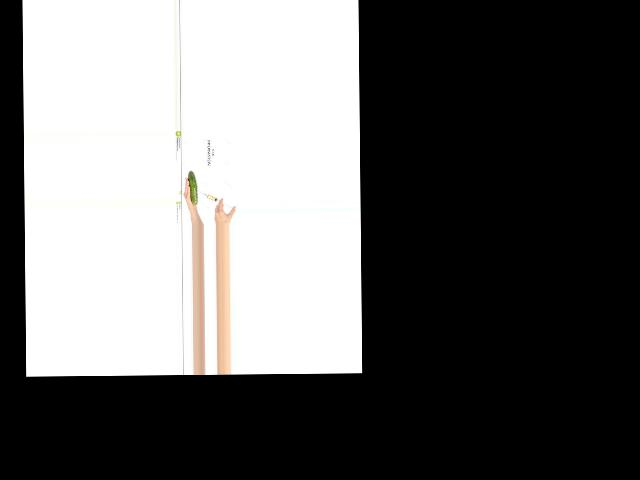cucumber: (187, 171, 197, 205)
